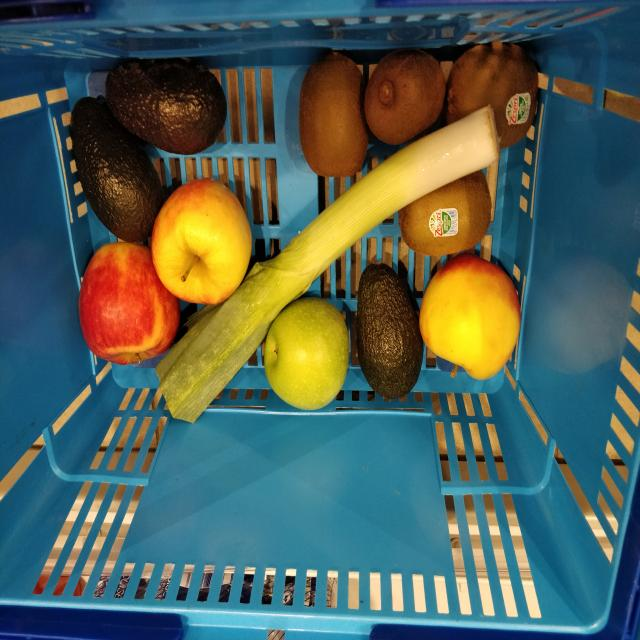Apple: (150, 181, 257, 308), (418, 252, 523, 381), (78, 241, 182, 367), (260, 292, 346, 414)
Avocado: (68, 98, 170, 248), (105, 59, 229, 155), (357, 262, 422, 403)
